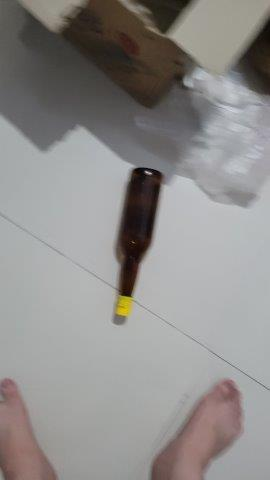botolkaca: (112, 167, 163, 318)
